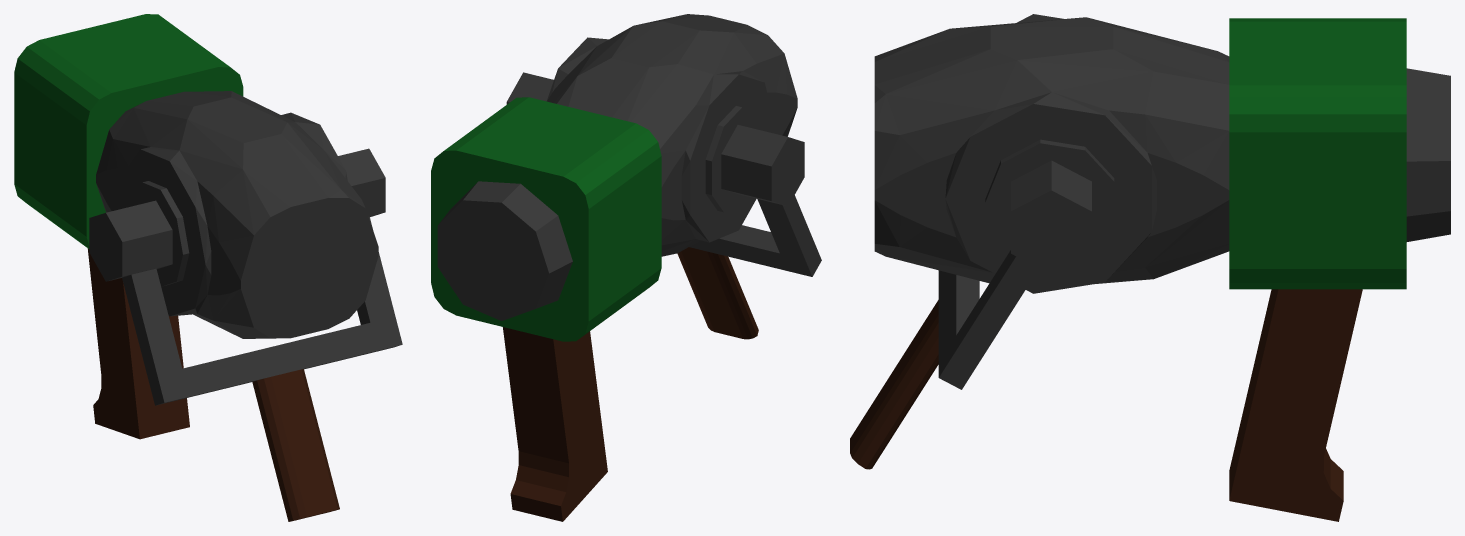
The model's file is Weapon-Healing-Body.fbx.
The picture shows the model from 3 angles, left to right: view 1: azimuth 30°, elevation 25°; view 2: azimuth 150°, elevation 25°; view 3: azimuth 270°, elevation 25°; orthographic projection. The views are drawn at different scales.
Visible parts, largest first — view 1: Weapon-Healing-Body; view 2: Weapon-Healing-Body; view 3: Weapon-Healing-Body.
Part boxes in pixels (x1,y1,x2,y2): Weapon-Healing-Body: [14, 14, 402, 521]; Weapon-Healing-Body: [431, 14, 821, 521]; Weapon-Healing-Body: [850, 14, 1450, 521].
Bounding box in the file's own units: 210 × 292 × 339.
